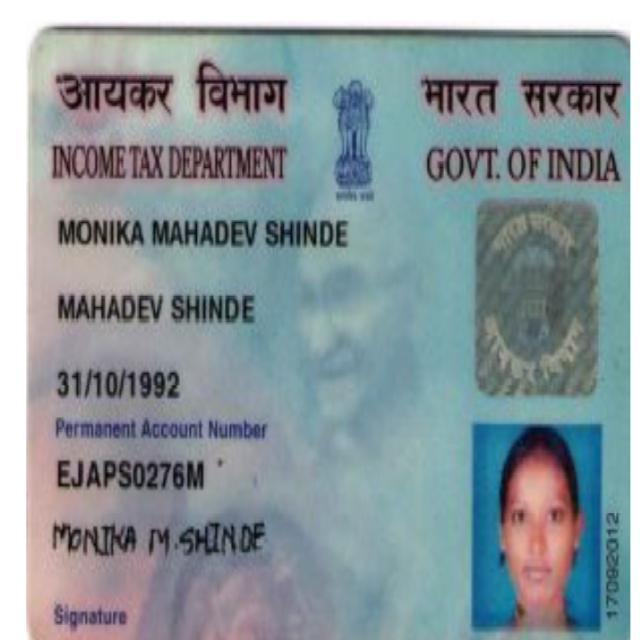pan_card: (35, 33, 631, 638)
